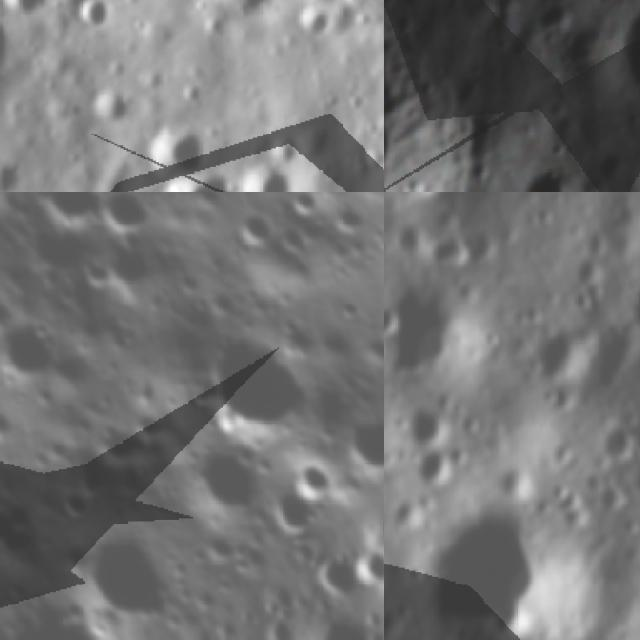crater: (184, 312, 328, 462), (45, 512, 189, 640), (444, 508, 568, 632), (384, 49, 484, 192), (166, 422, 284, 542), (0, 566, 141, 640), (78, 210, 178, 310), (12, 202, 101, 290), (0, 307, 74, 396), (133, 118, 217, 191), (252, 473, 327, 550), (214, 192, 288, 263), (87, 413, 159, 485), (331, 403, 384, 494), (83, 192, 157, 250), (280, 448, 342, 514), (22, 192, 107, 239), (76, 74, 140, 134), (185, 0, 290, 33), (149, 162, 252, 192), (542, 334, 600, 384), (617, 0, 640, 118), (234, 153, 301, 192), (288, 0, 339, 48), (326, 196, 376, 244), (66, 0, 120, 43), (412, 438, 448, 488), (520, 163, 581, 192), (281, 192, 335, 224), (0, 258, 21, 339), (0, 0, 59, 28), (596, 424, 640, 461), (0, 8, 25, 71), (527, 0, 574, 32), (400, 407, 440, 439), (432, 234, 468, 269), (384, 302, 406, 336), (388, 224, 419, 248), (508, 38, 534, 62), (631, 460, 640, 491)
